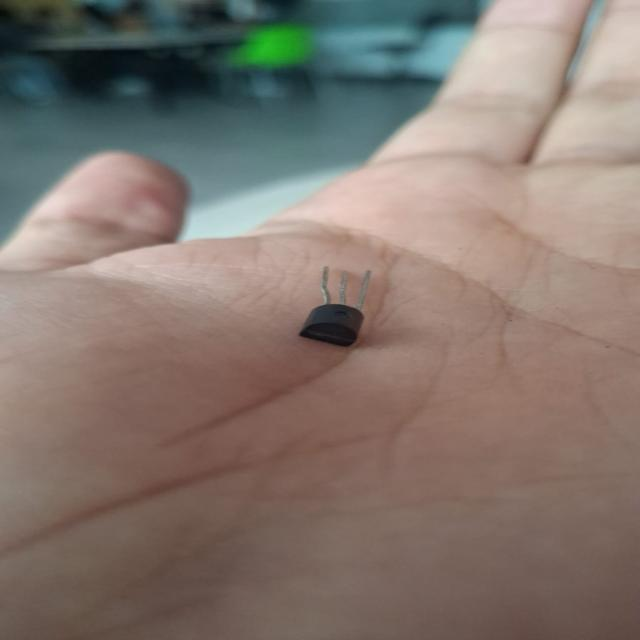Transistor: (298, 266, 372, 348)
